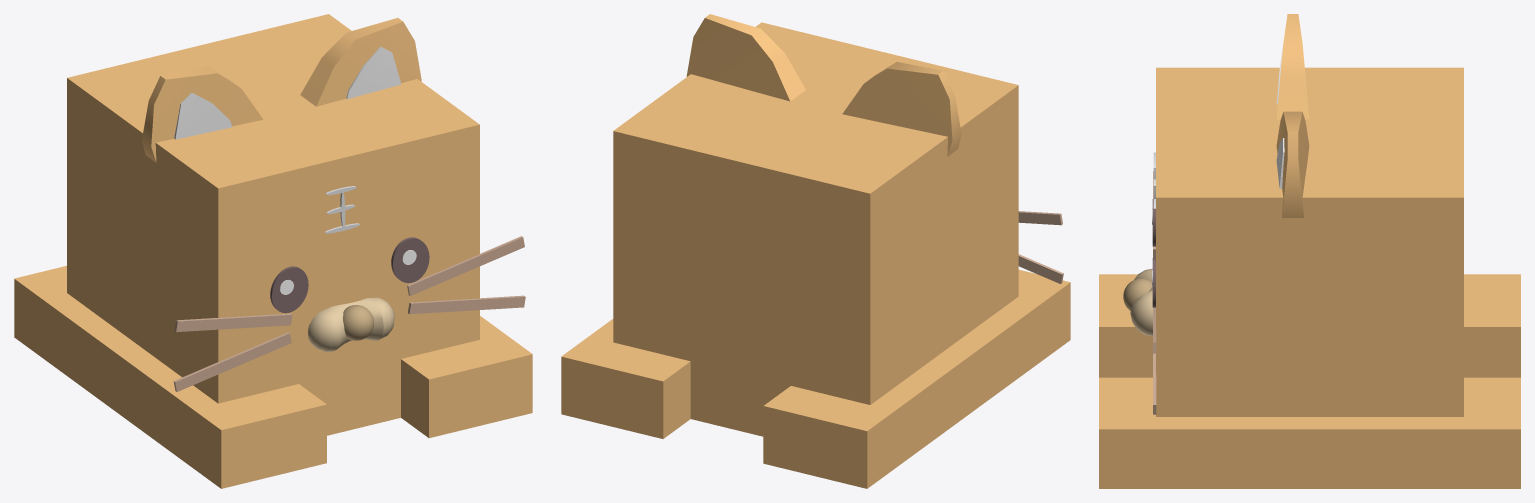
Rendered from tigger-with-orange-skin.glb.
3 views of the same model, side by side, from view 1: azimuth 30°, elevation 25°; view 2: azimuth 150°, elevation 25°; view 3: azimuth 270°, elevation 25° (orthographic). The views are drawn at different scales.
Parts seen in each view (by area): view 1: body_9, cube_15, cube_14, cube_13, cube_1_3, 圆柱_16, 胶囊, nose_18, 王; view 2: body_9, cube_15, cube_13, cube_1_3; view 3: body_9, cube_15, 胶囊, nose_18.
Boxes of the visible parts, x1,y1,x2,y2 form: body_9: [14, 14, 532, 488]; cube_15: [142, 18, 421, 162]; cube_14: [174, 46, 400, 139]; cube_13: [173, 295, 525, 391]; cube_1_3: [174, 236, 524, 332]; 圆柱_16: [270, 237, 429, 313]; 胶囊: [308, 297, 394, 351]; nose_18: [343, 305, 374, 340]; 王: [324, 186, 360, 233]; body_9: [561, 22, 1070, 488]; cube_15: [686, 14, 961, 156]; cube_13: [1018, 254, 1063, 283]; cube_1_3: [1018, 211, 1062, 225]; body_9: [1099, 67, 1520, 488]; cube_15: [1276, 14, 1309, 217]; 胶囊: [1130, 268, 1152, 336]; nose_18: [1123, 278, 1152, 310].
Size of the model in its own units: 0.5357 by 0.4857 by 0.5484.
